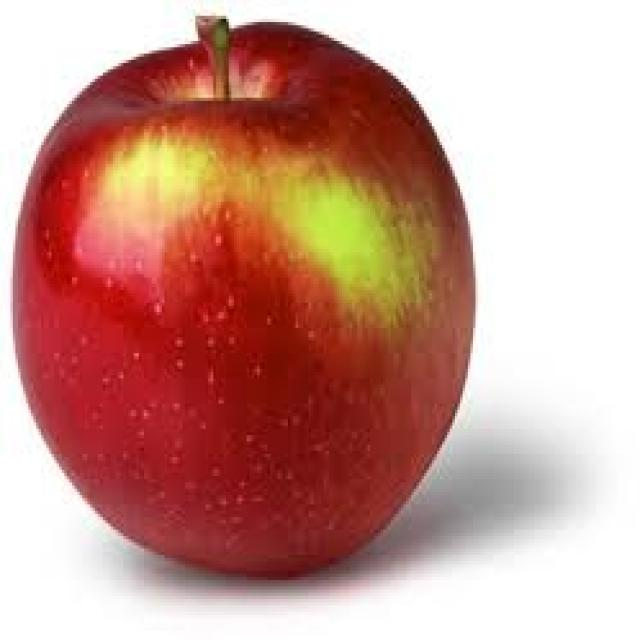apple: (0, 3, 476, 583)
